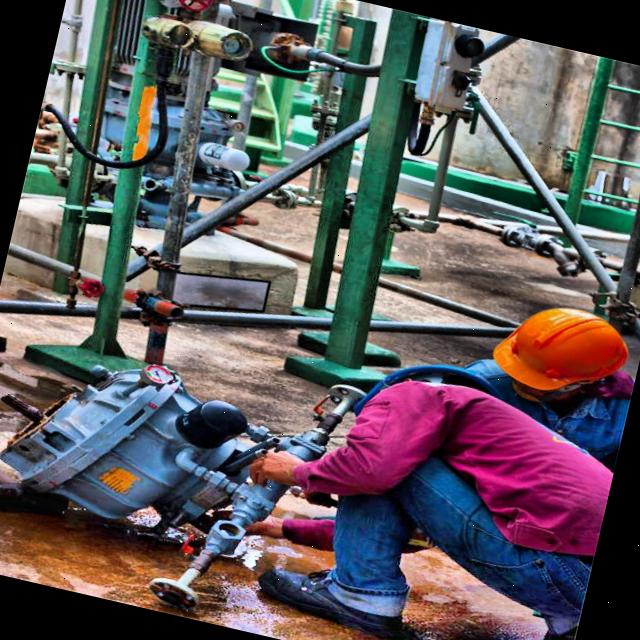helmet: (459, 276, 640, 435)
